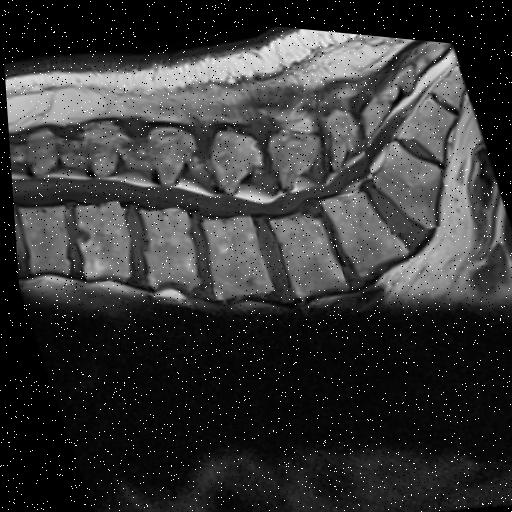L1: (72, 198, 127, 276)
L2: (135, 206, 196, 285)
L3: (197, 210, 270, 294)
L4: (266, 207, 344, 291)
L5: (318, 184, 403, 268)
S1: (372, 132, 441, 218)
